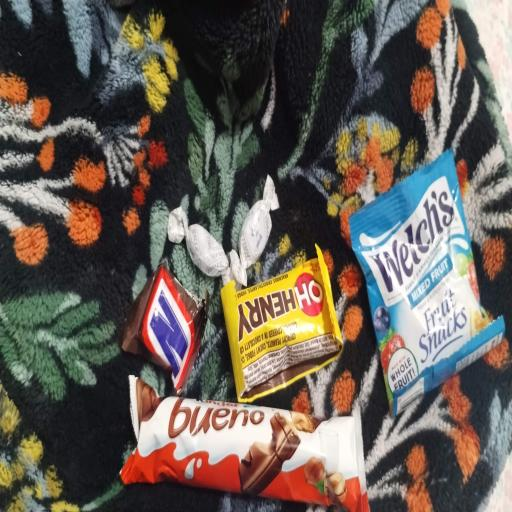chocolate: (350, 151, 504, 415), (121, 376, 369, 511), (221, 246, 342, 402), (120, 264, 209, 394)
